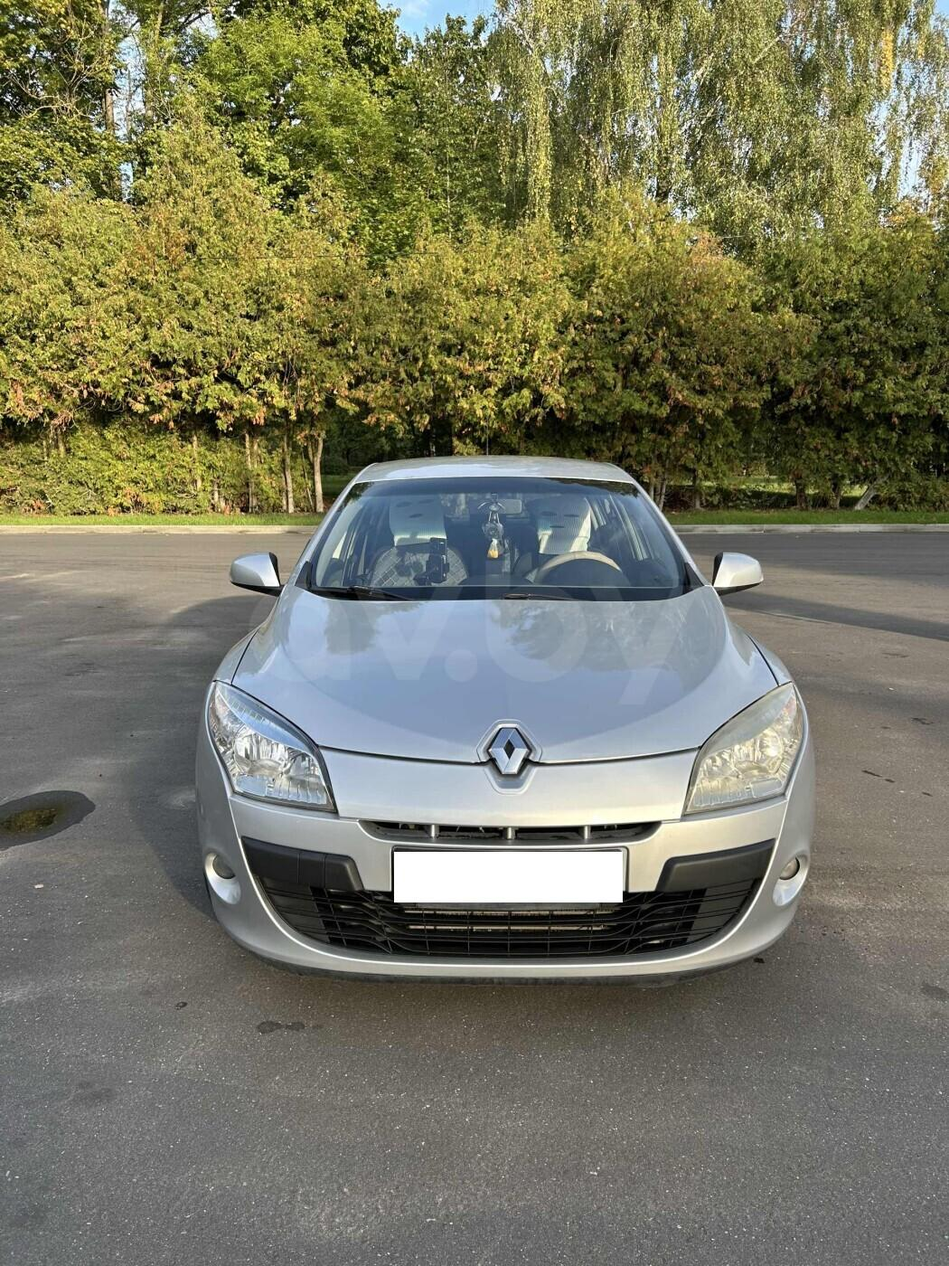Megane_2008-2014: (183, 450, 832, 973)
